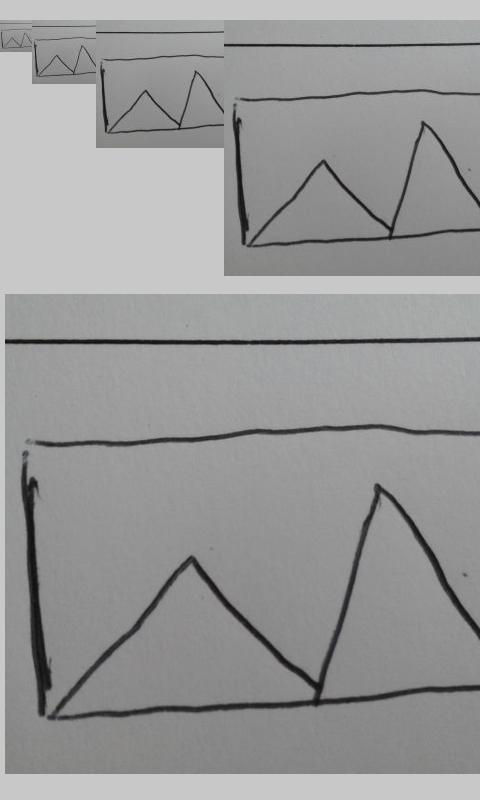image_view: (18, 422, 479, 725), (229, 85, 479, 251), (99, 53, 223, 135), (34, 36, 97, 79), (1, 27, 32, 49)
